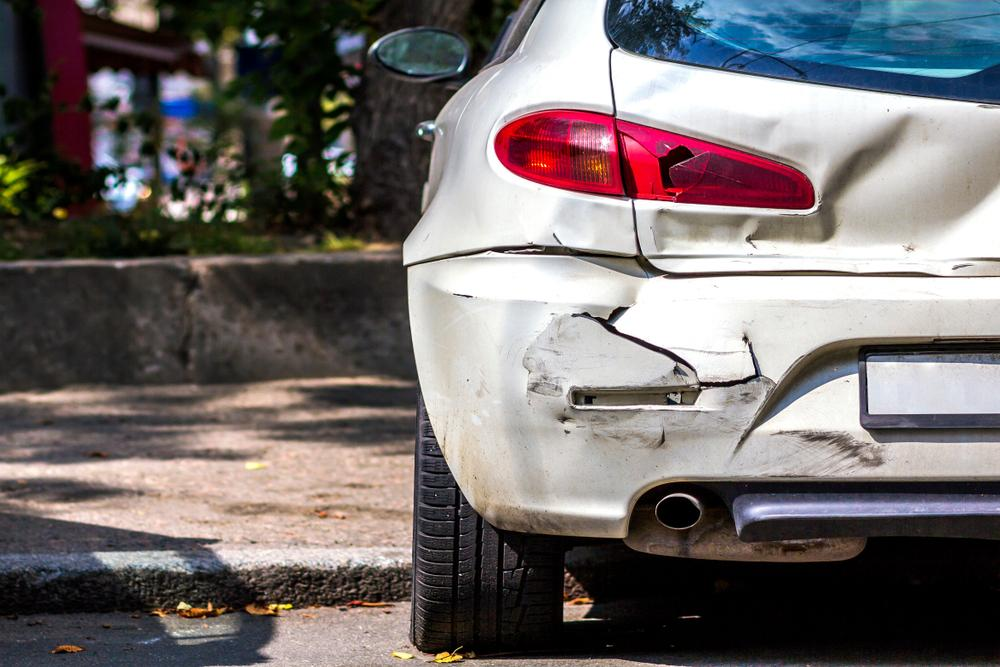crack: (570, 305, 767, 389)
dent: (649, 110, 1000, 276), (545, 199, 638, 254)
lamp broken: (618, 121, 813, 210)
scratch: (529, 321, 899, 478)
